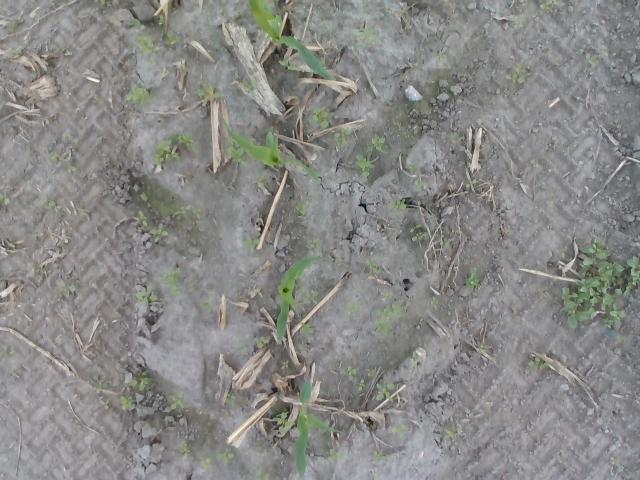Maize: (247, 0, 336, 81), (220, 116, 322, 184), (292, 381, 340, 479), (275, 255, 325, 343)
Weeds: (559, 237, 640, 329), (152, 132, 195, 165), (373, 304, 404, 334), (226, 136, 248, 168), (125, 83, 156, 105), (160, 267, 182, 295), (64, 132, 78, 172), (310, 107, 334, 129), (196, 86, 222, 106), (356, 154, 376, 178), (352, 27, 376, 47), (585, 46, 608, 66), (136, 34, 160, 53), (366, 134, 388, 154), (135, 284, 158, 303), (505, 65, 527, 84), (465, 266, 482, 290), (375, 382, 395, 402), (334, 126, 353, 147), (130, 372, 152, 390), (273, 412, 292, 432), (150, 222, 168, 243), (174, 204, 200, 218), (56, 280, 76, 298), (409, 223, 428, 241), (242, 234, 259, 253), (241, 78, 256, 98), (215, 448, 233, 464), (340, 365, 358, 381), (388, 199, 406, 215), (278, 59, 300, 72), (528, 356, 548, 370), (538, 0, 561, 12), (93, 373, 109, 390), (443, 423, 462, 437), (366, 258, 381, 274), (163, 30, 180, 44), (170, 392, 184, 408), (252, 172, 266, 188), (201, 296, 214, 313), (39, 197, 56, 210), (6, 18, 24, 30), (391, 424, 406, 438), (328, 448, 343, 462), (120, 396, 135, 410), (345, 301, 361, 314), (410, 350, 420, 370), (54, 45, 72, 56), (304, 290, 318, 304), (372, 450, 386, 462), (200, 456, 212, 470), (224, 392, 236, 406), (308, 238, 322, 250), (254, 336, 269, 347), (413, 180, 428, 191), (612, 334, 628, 344), (138, 210, 148, 226), (28, 263, 44, 273), (301, 322, 314, 334), (256, 469, 270, 480), (134, 18, 146, 30), (180, 441, 191, 454), (451, 132, 464, 143), (0, 192, 10, 206), (0, 343, 9, 358), (434, 50, 446, 61), (430, 296, 440, 309), (295, 282, 305, 294), (296, 202, 306, 214), (514, 18, 526, 28), (237, 341, 247, 352), (358, 378, 367, 390), (320, 57, 328, 70), (280, 360, 290, 370), (48, 152, 58, 162), (467, 178, 477, 188), (540, 288, 550, 298), (610, 456, 620, 466), (139, 191, 148, 202), (12, 48, 21, 59), (119, 70, 128, 80), (530, 159, 540, 168), (158, 14, 165, 26), (440, 238, 452, 245), (450, 86, 458, 96), (385, 291, 394, 299), (480, 344, 488, 353), (368, 368, 376, 376), (64, 92, 72, 100), (185, 60, 192, 69), (148, 56, 154, 66), (94, 0, 105, 5), (408, 164, 418, 169), (257, 444, 264, 450), (32, 0, 36, 3)
